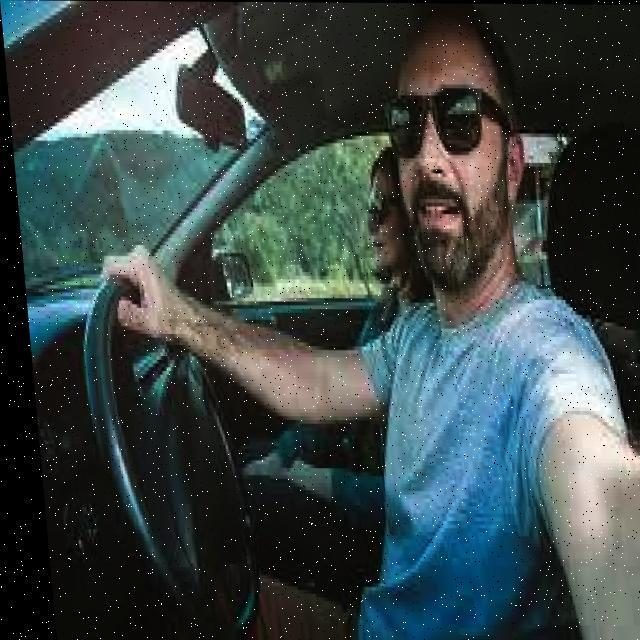noSeatbelt: (314, 233, 636, 640)
